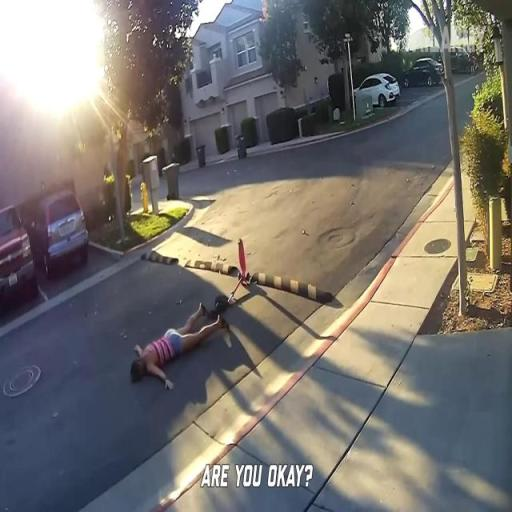Fall: (129, 299, 228, 391)
